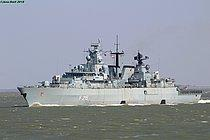MIL_Ship: (16, 35, 203, 107)
